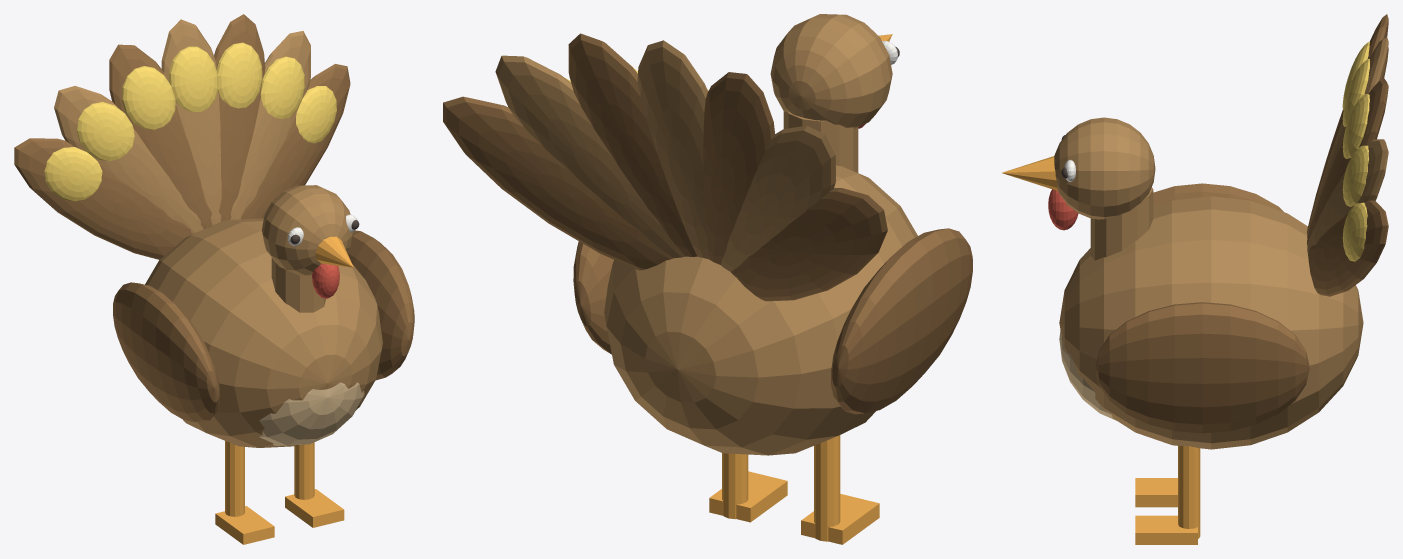
Rendered from turkey.glb.
3 renders of one model, left to right at view 1: azimuth 30°, elevation 25°; view 2: azimuth 150°, elevation 25°; view 3: azimuth 270°, elevation 25°, orthographic. The views are drawn at different scales.
Parts seen in each view (by area): view 1: Body, Wing_L, Tail_1, Head, Tail_2, Wing_R, Tail_3, Tail_4, Tail_7, Tail_5, Belly, Tail_6 (+14 smaller); view 2: Body, Wing_L, Tail_7, Head, Tail_1, Tail_6, Tail_5, Tail_4, Tail_3, Tail_2, Wing_R, Leg_L (+4 smaller); view 3: Body, Wing_R, Head, Tail_7, Neck, Tail_6, Tail_5, Leg_R, Foot_R, Wing_L, Foot_L, Tail_4 (+8 smaller).
Part boxes in pixels (box(x1,y1,x2,y2)): Body: box(145, 218, 382, 447); Wing_L: box(113, 282, 219, 422); Tail_1: box(14, 138, 192, 259); Head: box(261, 185, 353, 275); Tail_2: box(54, 86, 203, 233); Wing_R: box(347, 230, 414, 380); Tail_3: box(109, 44, 212, 229); Tail_4: box(161, 19, 221, 225); Tail_7: box(241, 64, 350, 219); Tail_5: box(214, 14, 265, 221); Belly: box(259, 382, 364, 445); Tail_6: box(230, 31, 310, 219); Body: box(604, 165, 917, 455); Wing_L: box(831, 228, 972, 414); Tail_7: box(443, 96, 673, 270); Head: box(770, 14, 892, 128); Tail_1: box(731, 188, 887, 301); Tail_6: box(495, 55, 685, 258); Tail_5: box(568, 33, 697, 256); Tail_4: box(637, 40, 708, 259); Tail_3: box(703, 72, 774, 264); Tail_2: box(720, 125, 835, 271); Wing_R: box(573, 241, 613, 354); Leg_L: box(814, 435, 840, 541); Body: box(1059, 196, 1363, 449); Wing_R: box(1095, 302, 1309, 433); Head: box(1054, 117, 1155, 219); Tail_7: box(1308, 200, 1388, 296); Neck: box(1090, 187, 1153, 260); Tail_6: box(1307, 139, 1388, 253); Tail_5: box(1307, 78, 1388, 244); Leg_R: box(1178, 446, 1200, 538); Foot_R: box(1135, 515, 1197, 544); Wing_L: box(1153, 183, 1283, 211); Foot_L: box(1135, 478, 1177, 507); Tail_4: box(1307, 37, 1388, 237).
Bounding box in the file's own units: 0.9672 × 1.19 × 0.8664.
